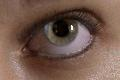eye: (45, 18, 79, 46)
